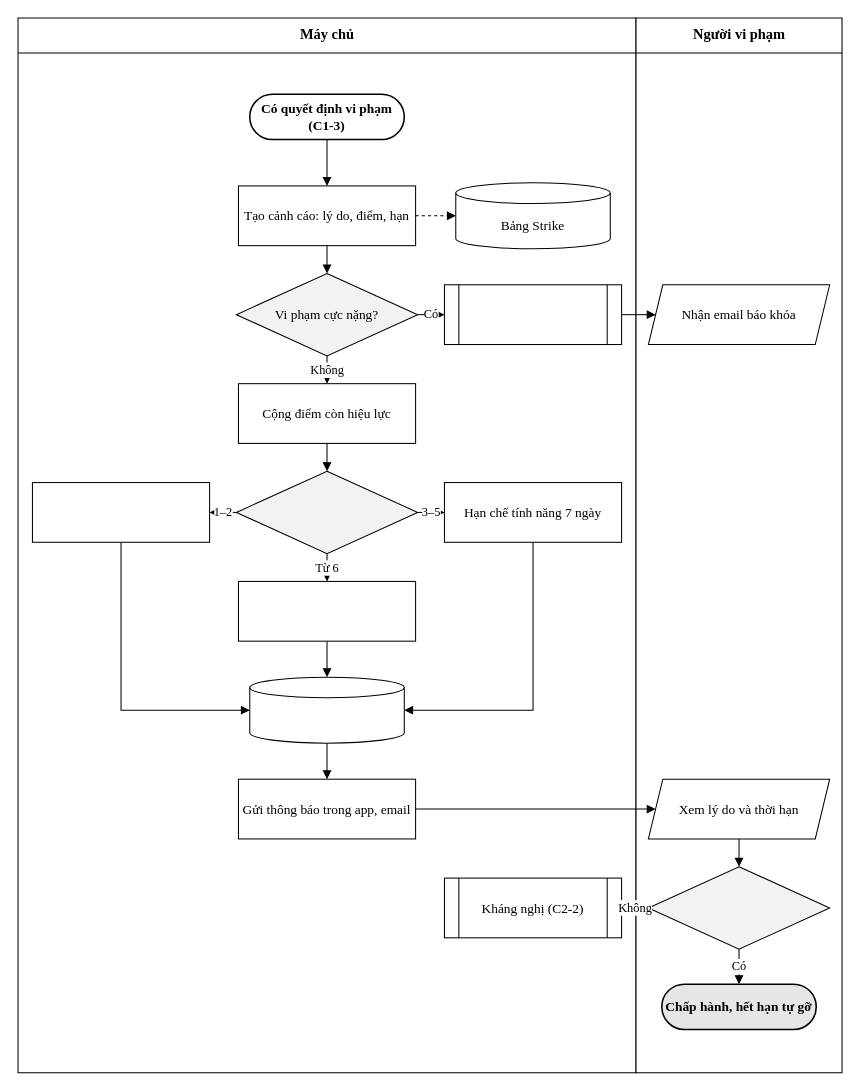
This 860x1091 diagram has some shape labels left out. Each missing label, with the box of its shape:
Chỉ cảnh cáo: (31, 482, 210, 542)
Ghi Sanction, ngày hết hạn: (249, 676, 404, 743)
QTV xác nhận khóa vĩnh viễn: (443, 284, 622, 345)
Tạm khóa, thu hồi phiên: (237, 580, 416, 641)
Tổng điểm?: (235, 470, 418, 554)
Đồng ý?: (647, 866, 830, 949)
